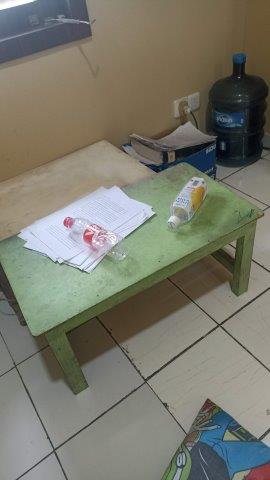botolplastik: (60, 216, 130, 264), (166, 175, 208, 230)
kertas: (17, 184, 158, 280)
